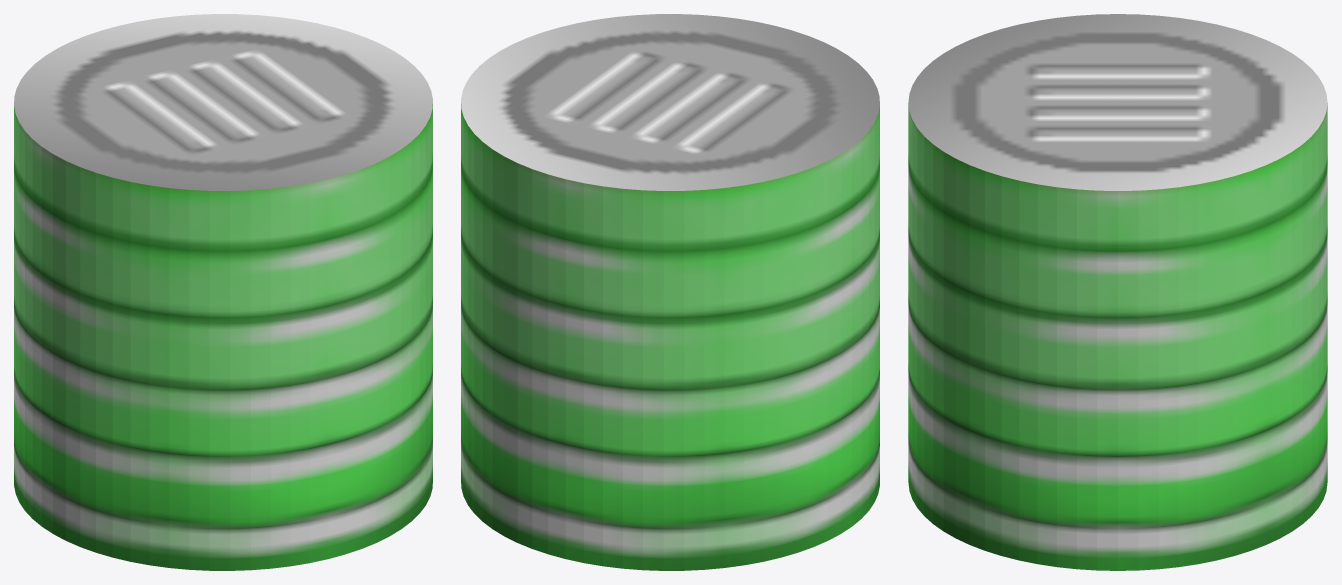
Rendered from power.obj.
The picture shows the model from 3 angles, left to right: view 1: azimuth 30°, elevation 25°; view 2: azimuth 150°, elevation 25°; view 3: azimuth 270°, elevation 25°; orthographic projection.
Visible parts, largest first — view 1: ColobotMesh_1_ColobotMesh_; view 2: ColobotMesh_1_ColobotMesh_; view 3: ColobotMesh_1_ColobotMesh_.
Boxes of the visible parts, <box> form: ColobotMesh_1_ColobotMesh_: <box>14,14,432,570</box>; ColobotMesh_1_ColobotMesh_: <box>461,14,879,570</box>; ColobotMesh_1_ColobotMesh_: <box>908,14,1327,570</box>.
Bounding box in the file's own units: 2 × 2 × 2.
